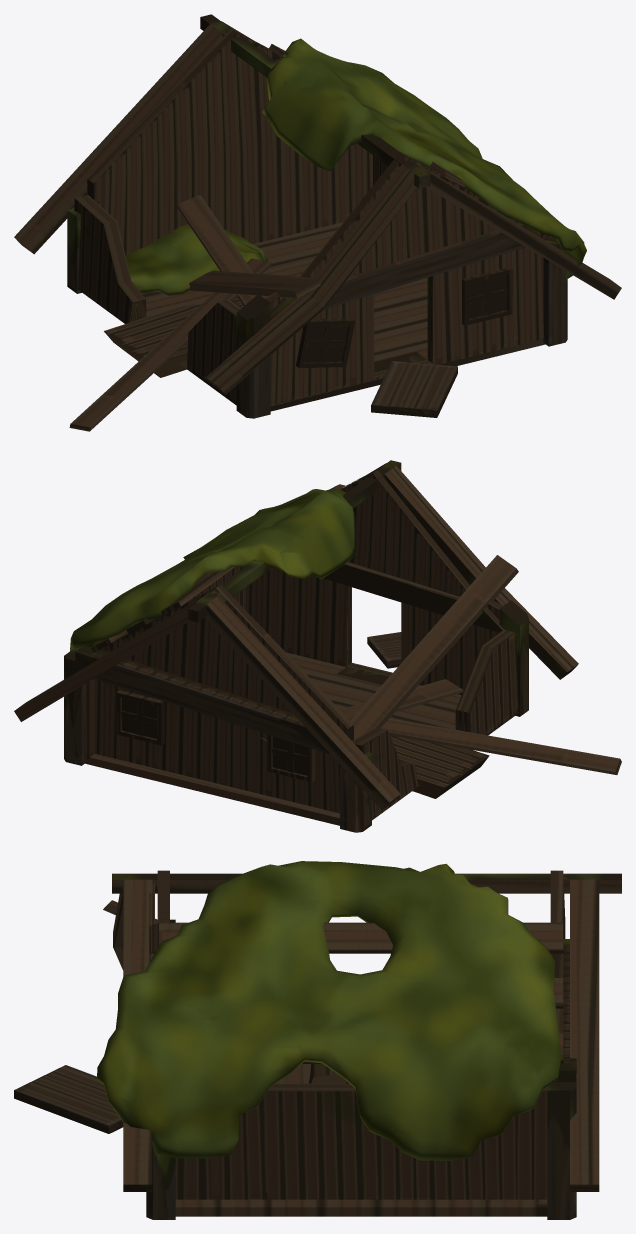
File: SM_House_Ruin_01.fbx
The picture shows the model from 3 angles, top to bottom: view 1: azimuth 30°, elevation 25°; view 2: azimuth 150°, elevation 25°; view 3: azimuth 270°, elevation 25°; orthographic projection. The views are drawn at different scales.
Parts seen in each view (by area): view 1: Cube.014, Cube.015, Cube.016, Cube.017, Cube.019, Cube.020, Cube.018, Cube.021; view 2: Cube.014, Cube.015, Cube.018, Cube.019, Cube.020, Cube.021, Cube.017; view 3: Cube.015, Cube.014, Cube.017, Cube.020.
Boxes of the visible parts, x1=… form: Cube.014: x1=14, y1=14, x2=621, y2=418; Cube.015: x1=262, y1=38, x2=586, y2=278; Cube.016: x1=125, y1=224, x2=267, y2=295; Cube.017: x1=371, y1=361, x2=457, y2=417; Cube.019: x1=69, y1=258, x2=271, y2=431; Cube.020: x1=104, y1=298, x2=243, y2=377; Cube.018: x1=189, y1=270, x2=320, y2=297; Cube.021: x1=177, y1=195, x2=268, y2=305; Cube.014: x1=14, y1=460, x2=578, y2=832; Cube.015: x1=70, y1=488, x2=356, y2=650; Cube.018: x1=350, y1=555, x2=518, y2=739; Cube.019: x1=353, y1=712, x2=621, y2=774; Cube.020: x1=390, y1=735, x2=489, y2=798; Cube.021: x1=259, y1=679, x2=463, y2=743; Cube.017: x1=367, y1=632, x2=401, y2=668; Cube.015: x1=97, y1=861, x2=561, y2=1160; Cube.014: x1=112, y1=870, x2=621, y2=1219; Cube.017: x1=14, y1=1065, x2=123, y2=1133; Cube.020: x1=309, y1=1064, x2=348, y2=1083.
Bounding box in the file's own units: 969 × 442 × 877.
